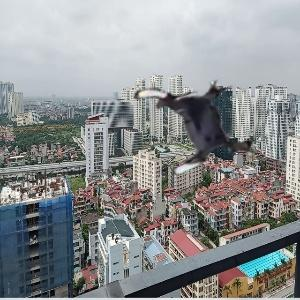drone: (138, 65, 257, 184)
